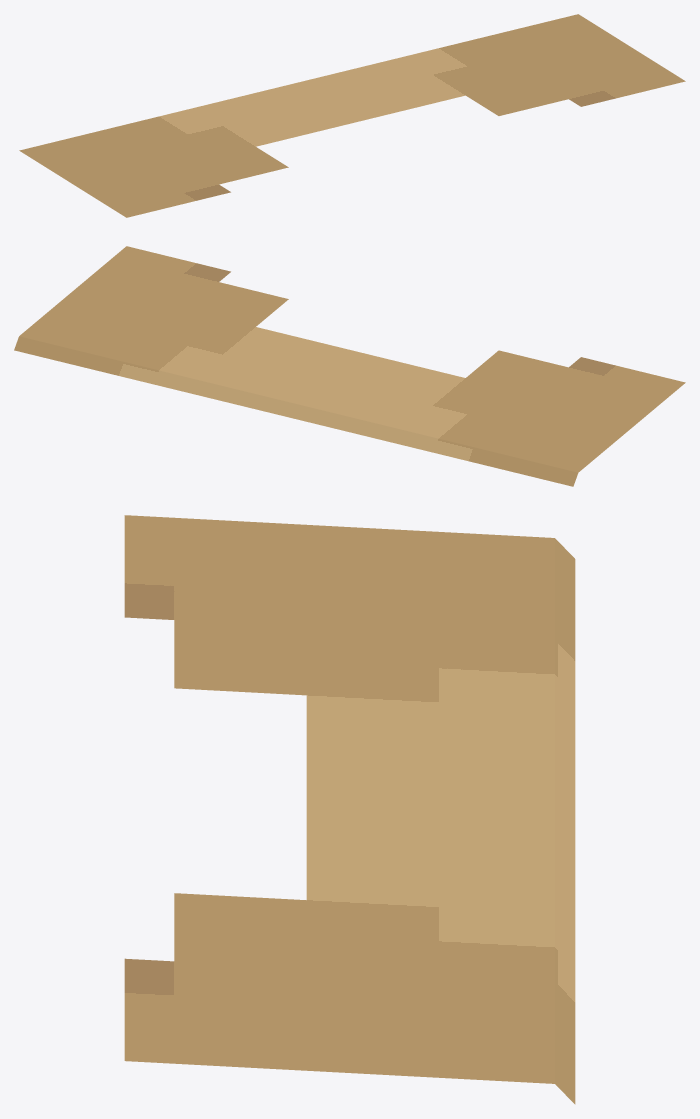
3 renders of one model, top to bottom at view 1: azimuth 30°, elevation 25°; view 2: azimuth 150°, elevation 25°; view 3: azimuth 270°, elevation 25°, orthographic. The views are drawn at different scales.
Bounding box in the file's own units: 1 × 0.0373 × 0.3486.
1 material, 1 textured.
